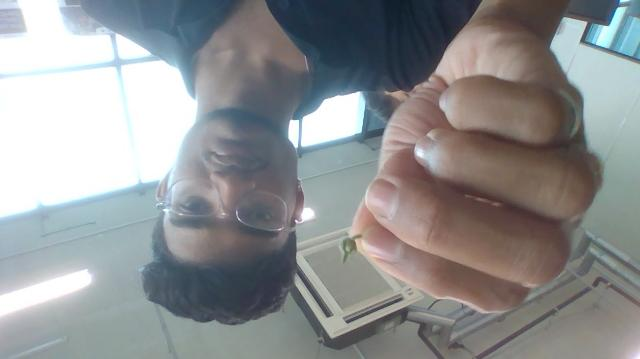Fruit Bud: (339, 236, 357, 263)
